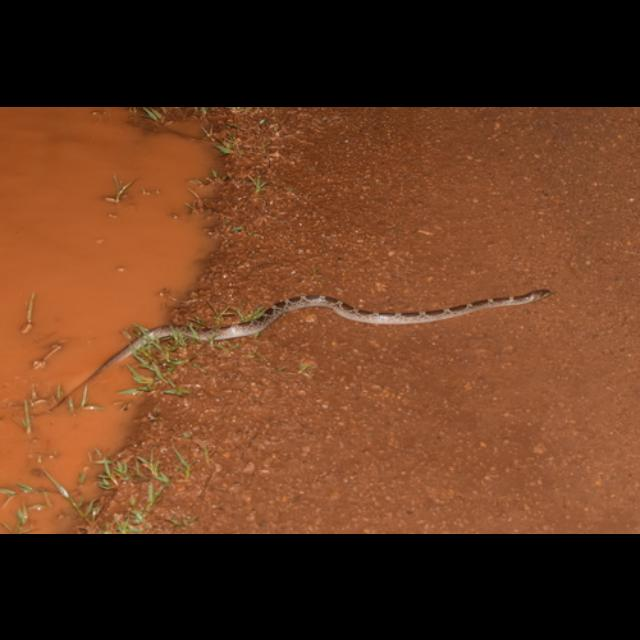snake: (48, 286, 556, 404)
